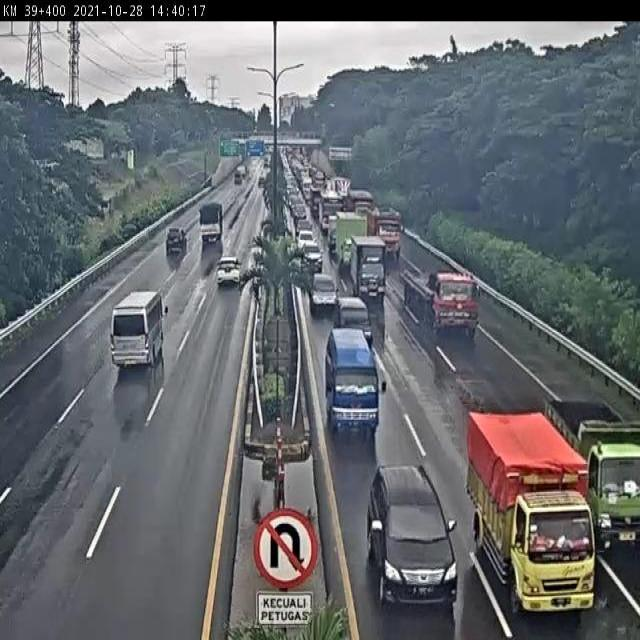bus-s-: (321, 327, 380, 445)
car: (368, 463, 459, 608), (333, 296, 374, 345), (309, 273, 339, 312), (215, 252, 244, 287), (300, 242, 324, 278), (167, 223, 191, 252)
small bus: (109, 288, 166, 372)
truck-l-: (364, 204, 403, 260)
truck-m-: (465, 411, 594, 617), (545, 400, 640, 552), (350, 233, 388, 303), (336, 210, 367, 274)
truck-xl-: (408, 270, 480, 338)
